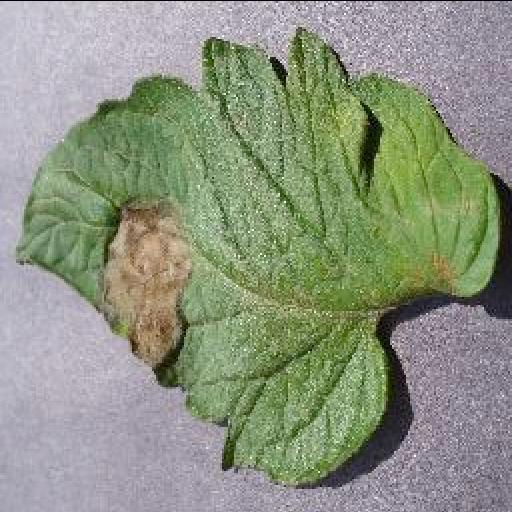disease_tomato: (14, 24, 496, 488)
